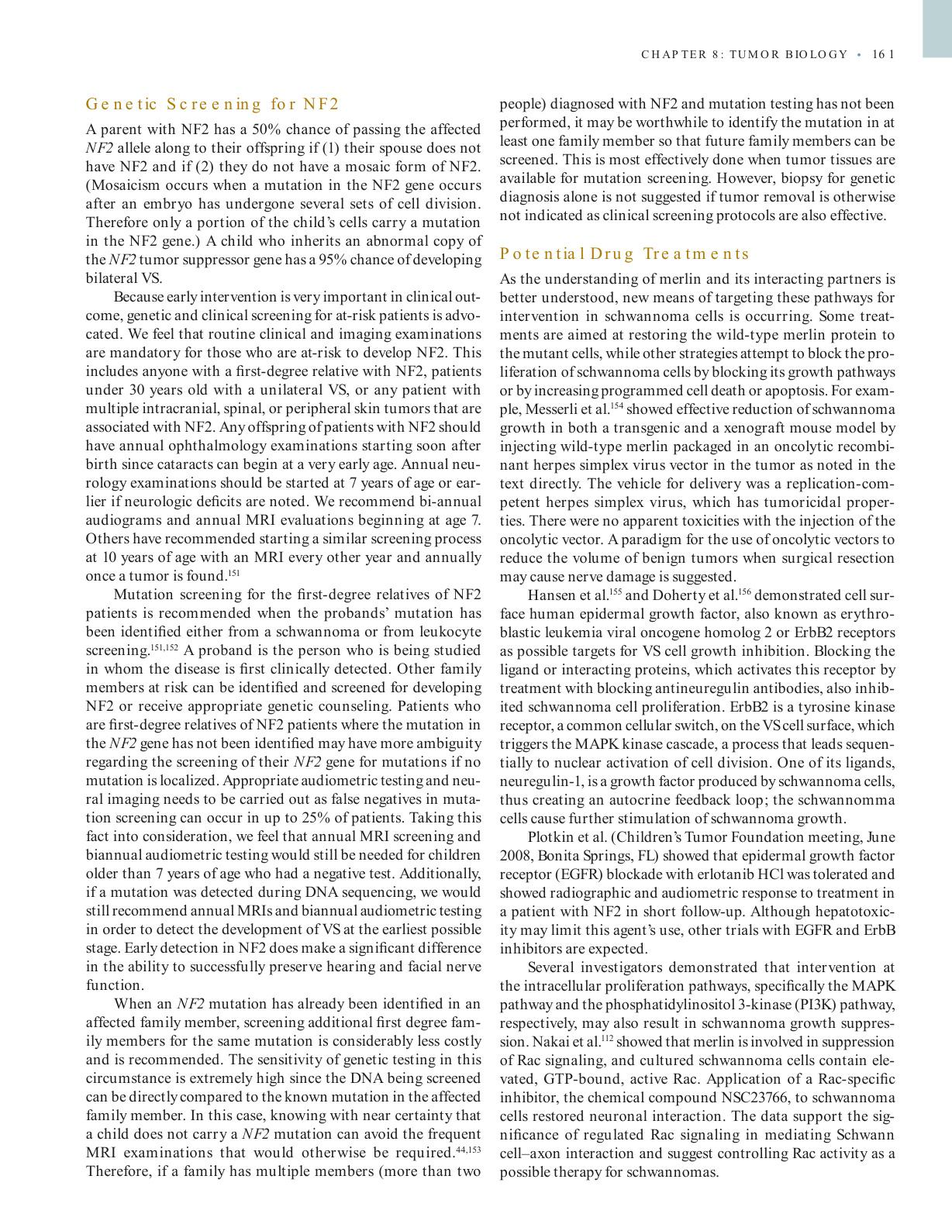header: (640, 49, 848, 60)
sub-section-heading: (84, 95, 340, 115), (498, 244, 750, 264)
text: (85, 121, 483, 1182), (498, 270, 898, 1182), (495, 94, 898, 225)
